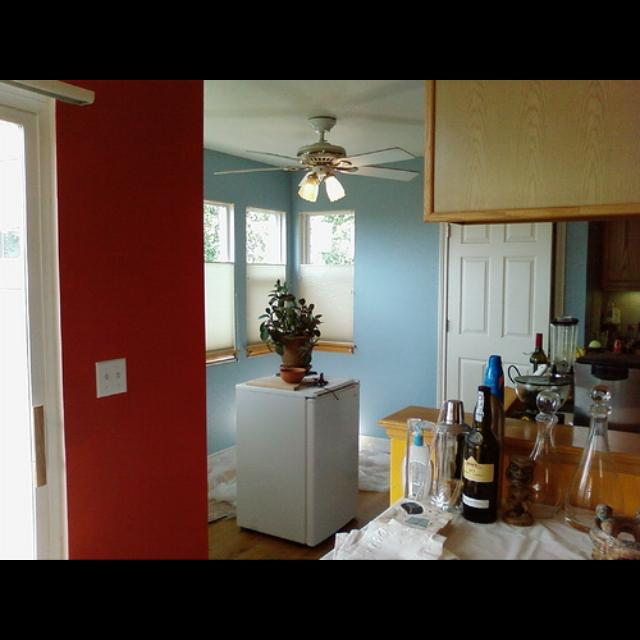Refrigerator: (236, 372, 360, 549)
